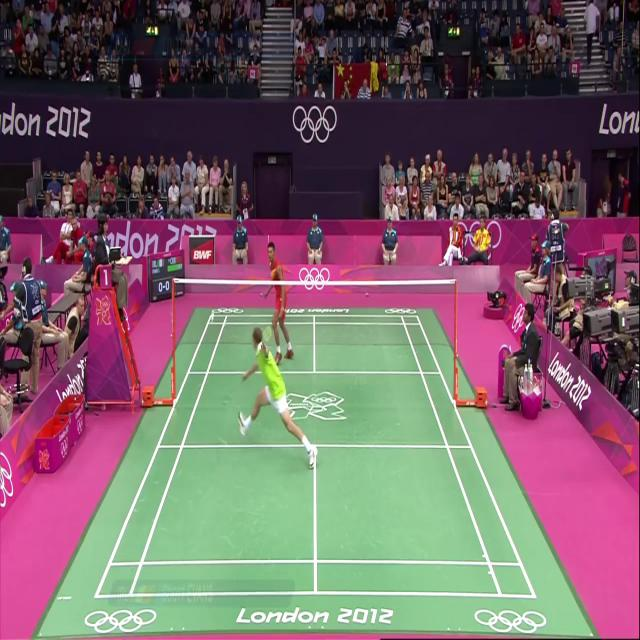Net: (172, 278, 461, 347)
Player1: (235, 318, 322, 476)
Player2: (259, 234, 296, 366)
Shuttlecock: (209, 309, 217, 326)
